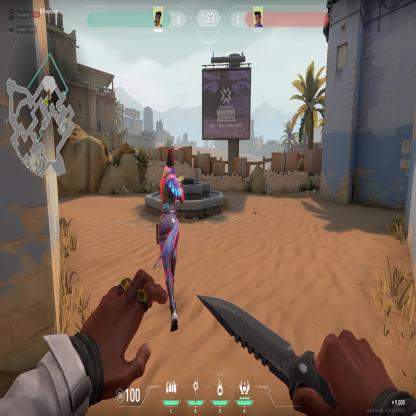enemy: (156, 151, 186, 338)
